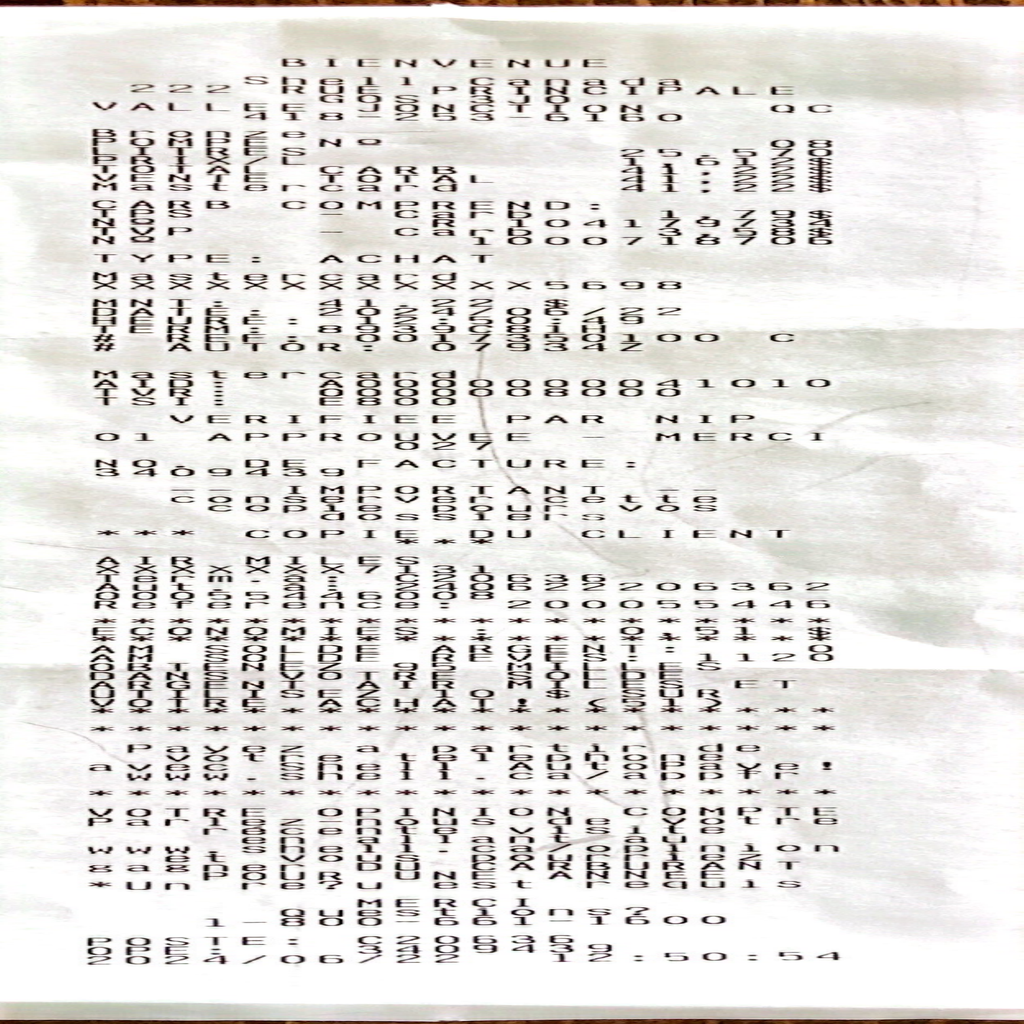recipt: (0, 6, 1022, 1005)
